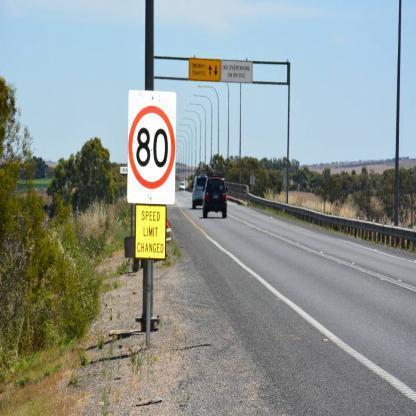Speed Limit -80-: (123, 101, 187, 198)
